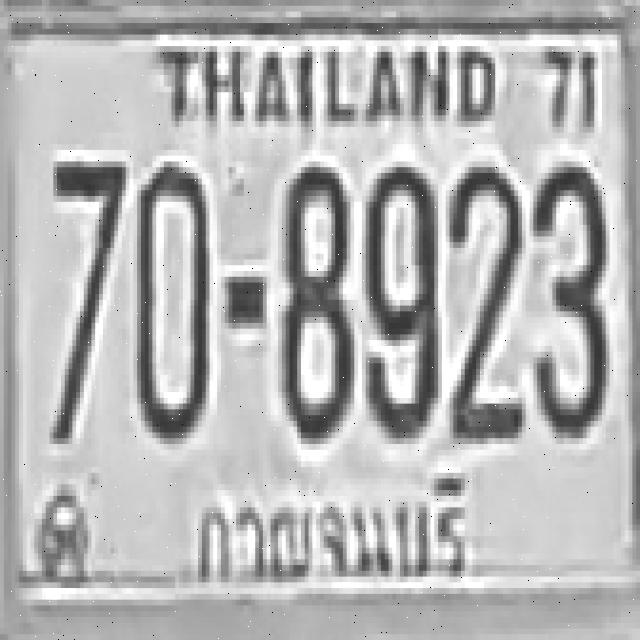0: (134, 158, 206, 436)
2: (448, 162, 520, 438)
3: (528, 158, 604, 430)
7: (48, 156, 124, 438)
8: (278, 162, 350, 438)
9: (362, 162, 434, 432)
Kanchanaburi: (190, 460, 472, 601)
